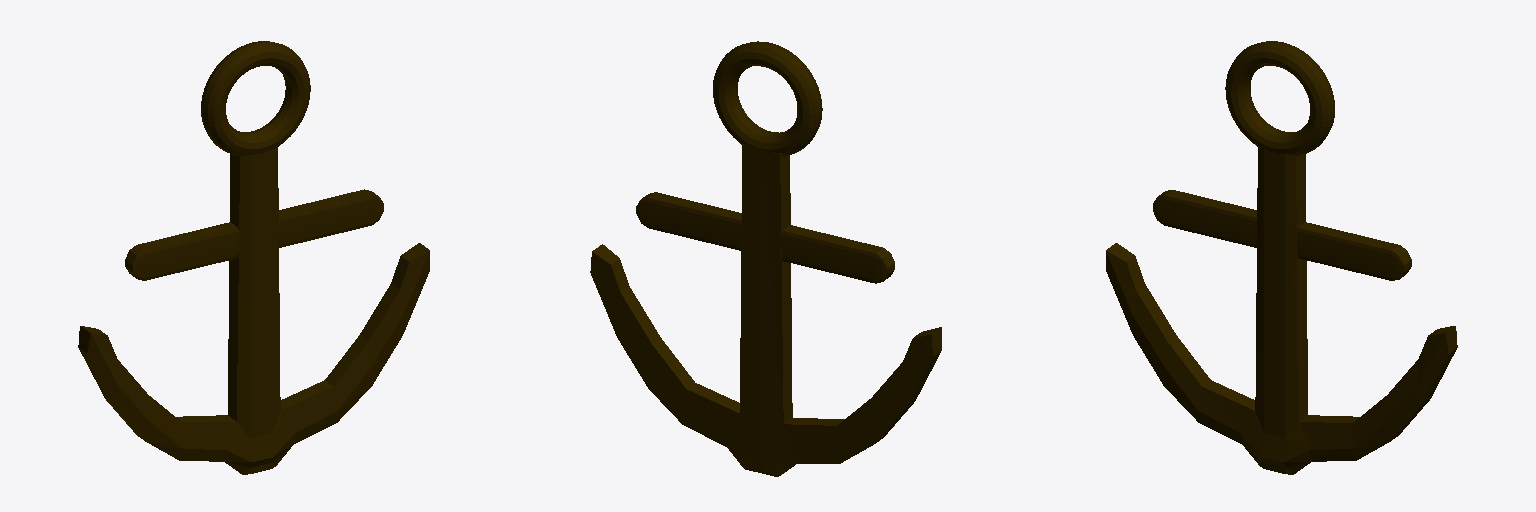
Rendered from pintu5.obj.
3 renders of one model, left to right at view 1: azimuth 30°, elevation 25°; view 2: azimuth 150°, elevation 25°; view 3: azimuth 330°, elevation 25°, orthographic.
Visible parts, largest first — view 1: Cylinder.004_Cylinder.009_Cylinder.004_Cylinder.001; view 2: Cylinder.004_Cylinder.009_Cylinder.004_Cylinder.001; view 3: Cylinder.004_Cylinder.009_Cylinder.004_Cylinder.001.
Part boxes in pixels (left/top/right/bottom): Cylinder.004_Cylinder.009_Cylinder.004_Cylinder.001: left=78, top=41, right=429, bottom=474; Cylinder.004_Cylinder.009_Cylinder.004_Cylinder.001: left=590, top=41, right=941, bottom=476; Cylinder.004_Cylinder.009_Cylinder.004_Cylinder.001: left=1106, top=41, right=1457, bottom=474.
Size of the model in its own units: 2.39 by 2.83 by 0.1693.